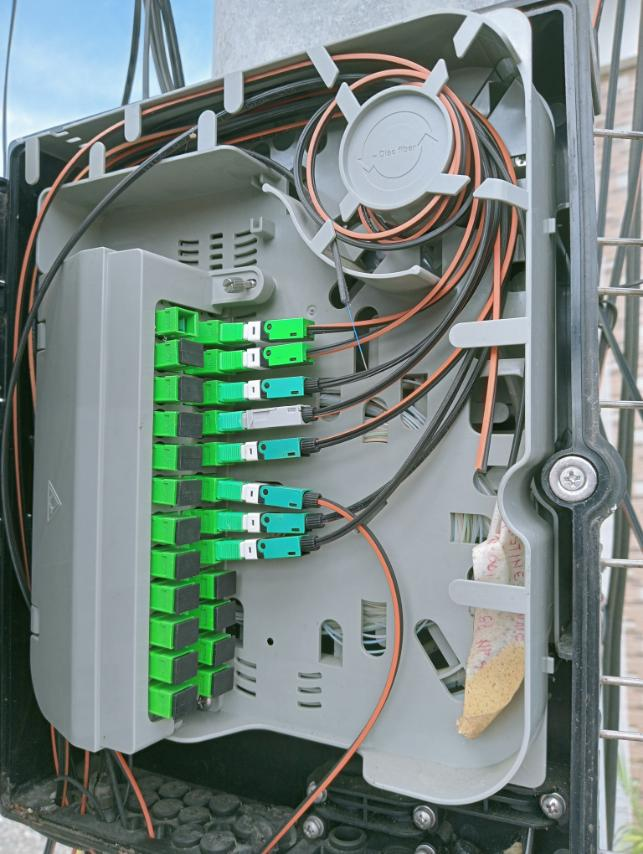no dust cap: (175, 308, 199, 336)
occupied: (217, 479, 332, 518), (210, 532, 326, 562), (217, 402, 329, 432), (219, 340, 322, 371), (217, 375, 330, 403), (217, 435, 325, 464), (215, 511, 329, 537), (219, 317, 320, 343)
vacant: (173, 684, 199, 724), (173, 650, 199, 687), (175, 617, 199, 651), (214, 599, 237, 634), (178, 338, 204, 368), (176, 583, 201, 614), (176, 516, 202, 545), (175, 480, 203, 506), (212, 666, 234, 699), (214, 570, 237, 601), (213, 635, 235, 667), (177, 550, 201, 579), (180, 375, 204, 402), (178, 446, 203, 470), (178, 413, 204, 435)
